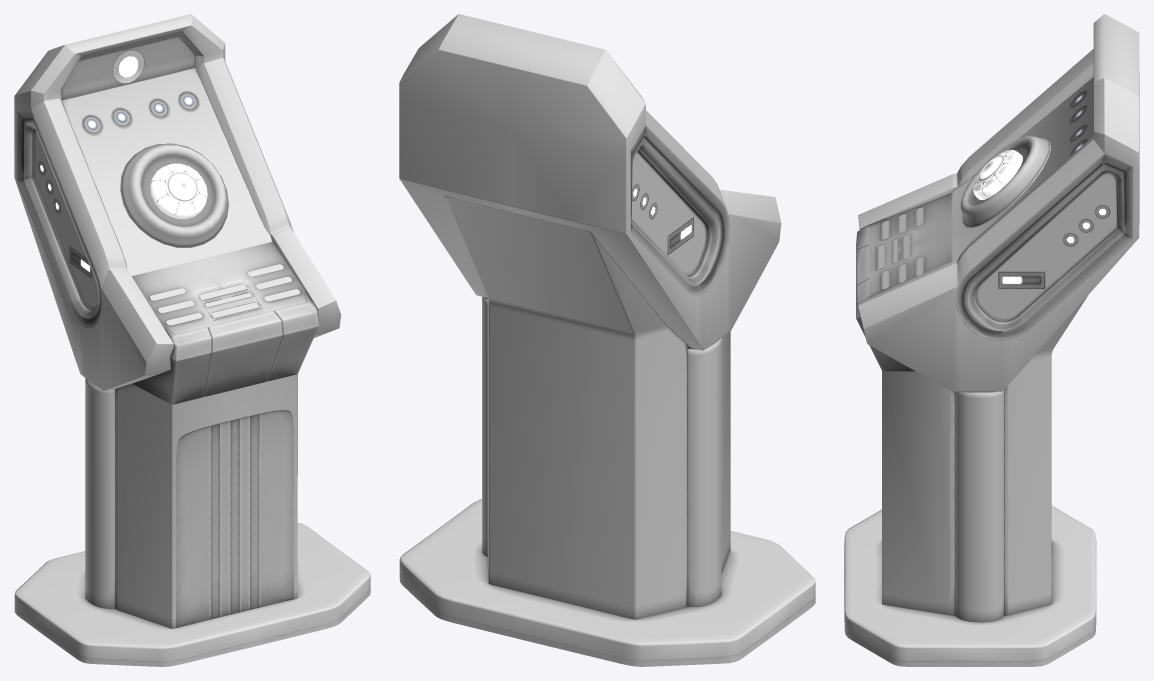
The model's file is ControlPanel01.FBX.
The picture shows the model from 3 angles, left to right: view 1: azimuth 30°, elevation 25°; view 2: azimuth 150°, elevation 25°; view 3: azimuth 270°, elevation 25°; orthographic projection. The views are drawn at different scales.
Visible parts, largest first — view 1: ControlPanel01; view 2: ControlPanel01; view 3: ControlPanel01.
Boxes of the visible parts, <box> form: ControlPanel01: <box>14,14,370,666</box>; ControlPanel01: <box>399,14,815,666</box>; ControlPanel01: <box>844,14,1139,666</box>.
Size of what is drawn, in the model's own units: 0.75 by 1.3 by 0.6351.
